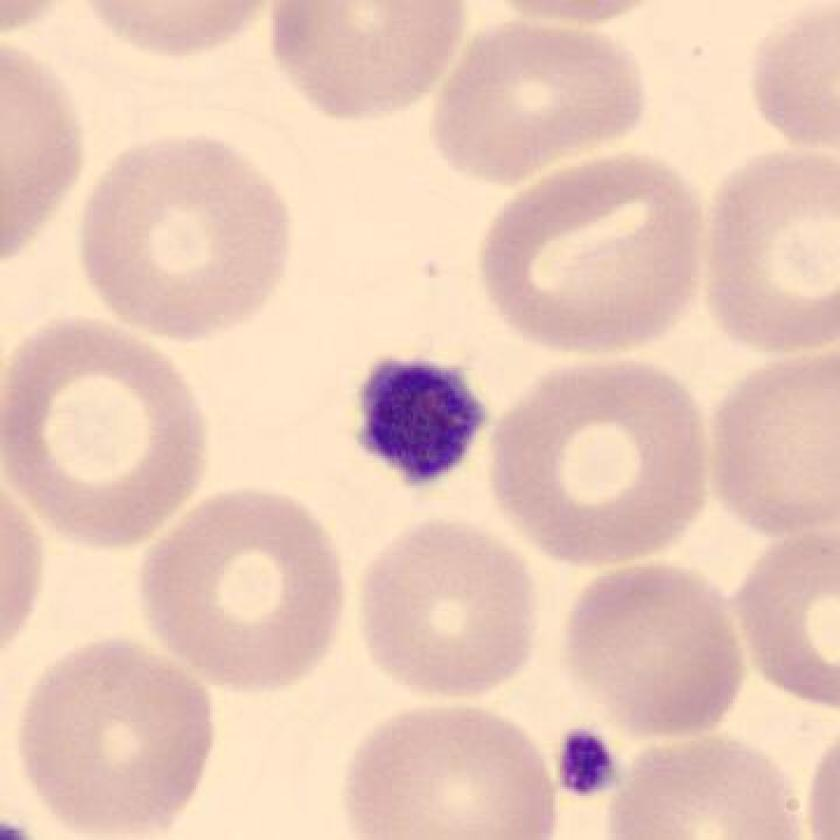platelets: (340, 341, 501, 501), (542, 716, 631, 809)
